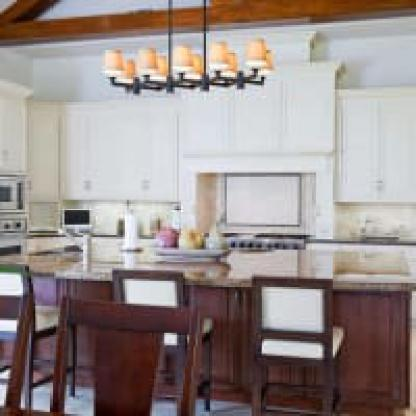chair: (49, 295, 206, 416), (118, 260, 217, 409), (252, 268, 342, 416), (0, 259, 78, 394)
